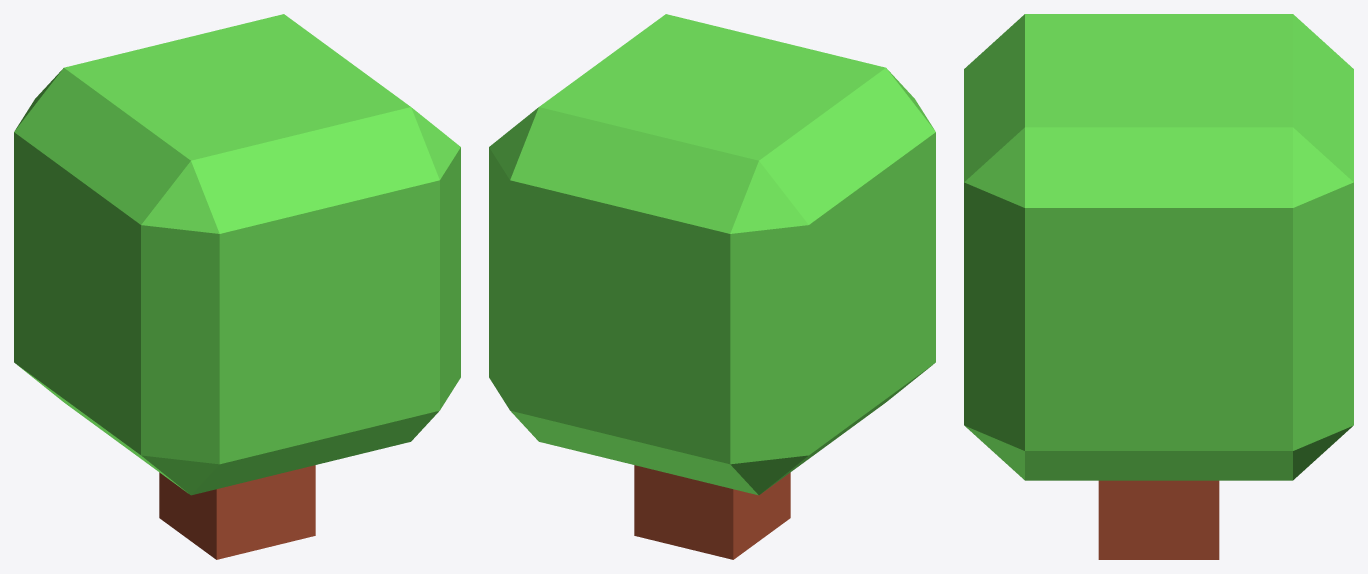
File: treeMesh.fbx
3 renders of one model, left to right at view 1: azimuth 30°, elevation 25°; view 2: azimuth 150°, elevation 25°; view 3: azimuth 270°, elevation 25°, orthographic. The views are drawn at different scales.
Parts seen in each view (by area): view 1: Cube; view 2: Cube; view 3: Cube.
Boxes of the visible parts, <box> form: Cube: <box>14,14,460,559</box>; Cube: <box>489,14,935,559</box>; Cube: <box>964,14,1353,559</box>.
Size of the model in its own units: 200 by 263 by 200.
